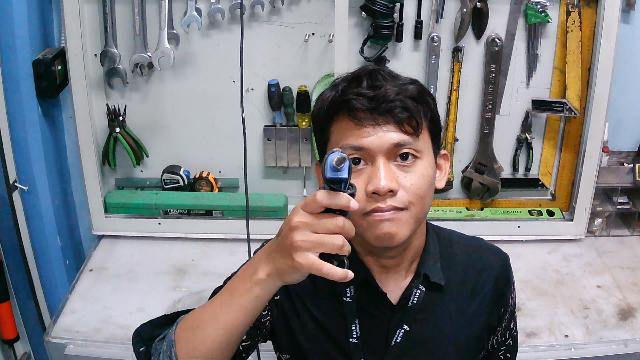solder_electrical: (319, 147, 354, 280)
